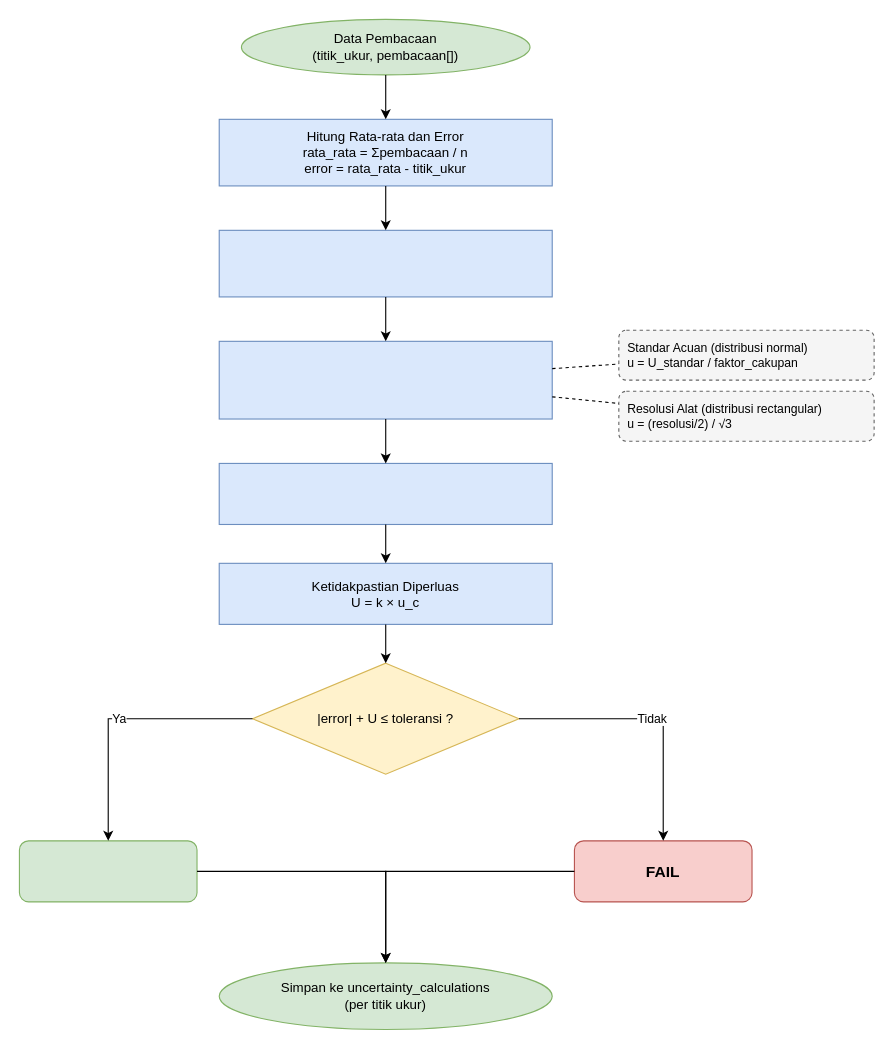
This 894x1049 diagram has some shape labels left out. The box of each missing label's shape, as (x1, y1, x2, y2) in pixels:
Gabungan u_c = √(u_a² + u_b²): (218, 462, 552, 524)
PASS: (18, 840, 197, 902)
Type A (u_a) u_a = std_dev / √n (minimal 2 pembacaan): (218, 229, 552, 297)
Type B (u_b) Gabungan tiap komponen u_b = √(Σ u_i²): (218, 340, 552, 419)
